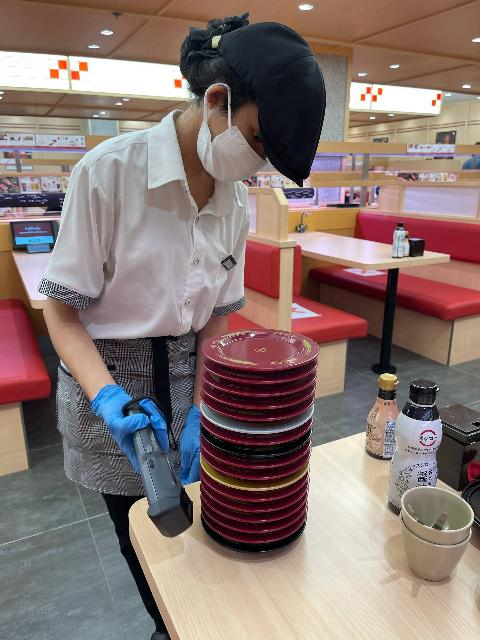janback: (210, 539, 300, 563), (211, 445, 297, 460)
jangold: (206, 476, 301, 490)
janred: (199, 338, 321, 365), (200, 446, 316, 468), (198, 480, 308, 501), (197, 363, 318, 382), (198, 378, 310, 396), (206, 431, 308, 447), (204, 524, 298, 541), (203, 463, 301, 479), (205, 505, 298, 521), (206, 405, 316, 418), (203, 395, 316, 407), (208, 517, 289, 533), (210, 500, 293, 511)
janwhite: (202, 417, 309, 430)
